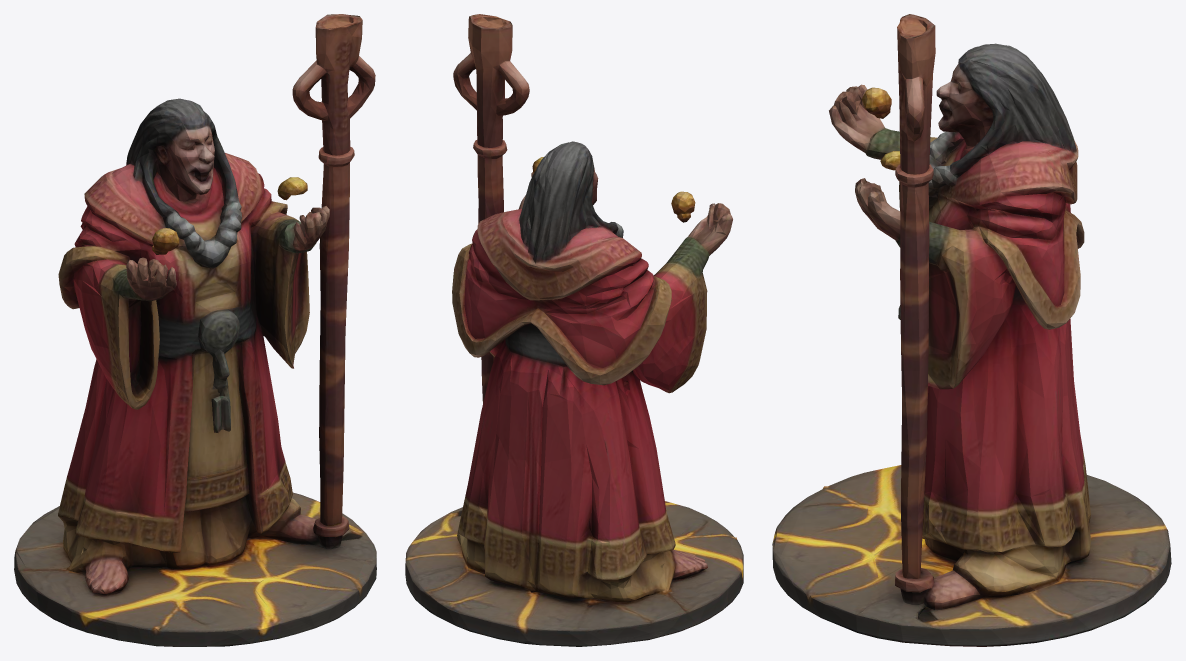
File: stoneSinger.glb
The picture shows the model from 3 angles, left to right: view 1: azimuth 30°, elevation 25°; view 2: azimuth 150°, elevation 25°; view 3: azimuth 270°, elevation 25°; orthographic projection. The views are drawn at different scales.
Visible parts, largest first — view 1: world; view 2: world; view 3: world.
Boxes of the visible parts, bbox=[...] form: world: bbox=[14, 14, 376, 646]; world: bbox=[405, 14, 743, 646]; world: bbox=[772, 14, 1171, 646].
Bounding box in the file's own units: 0.6024 × 1 × 0.6028.
Materials: 1 (1 with a texture image).
